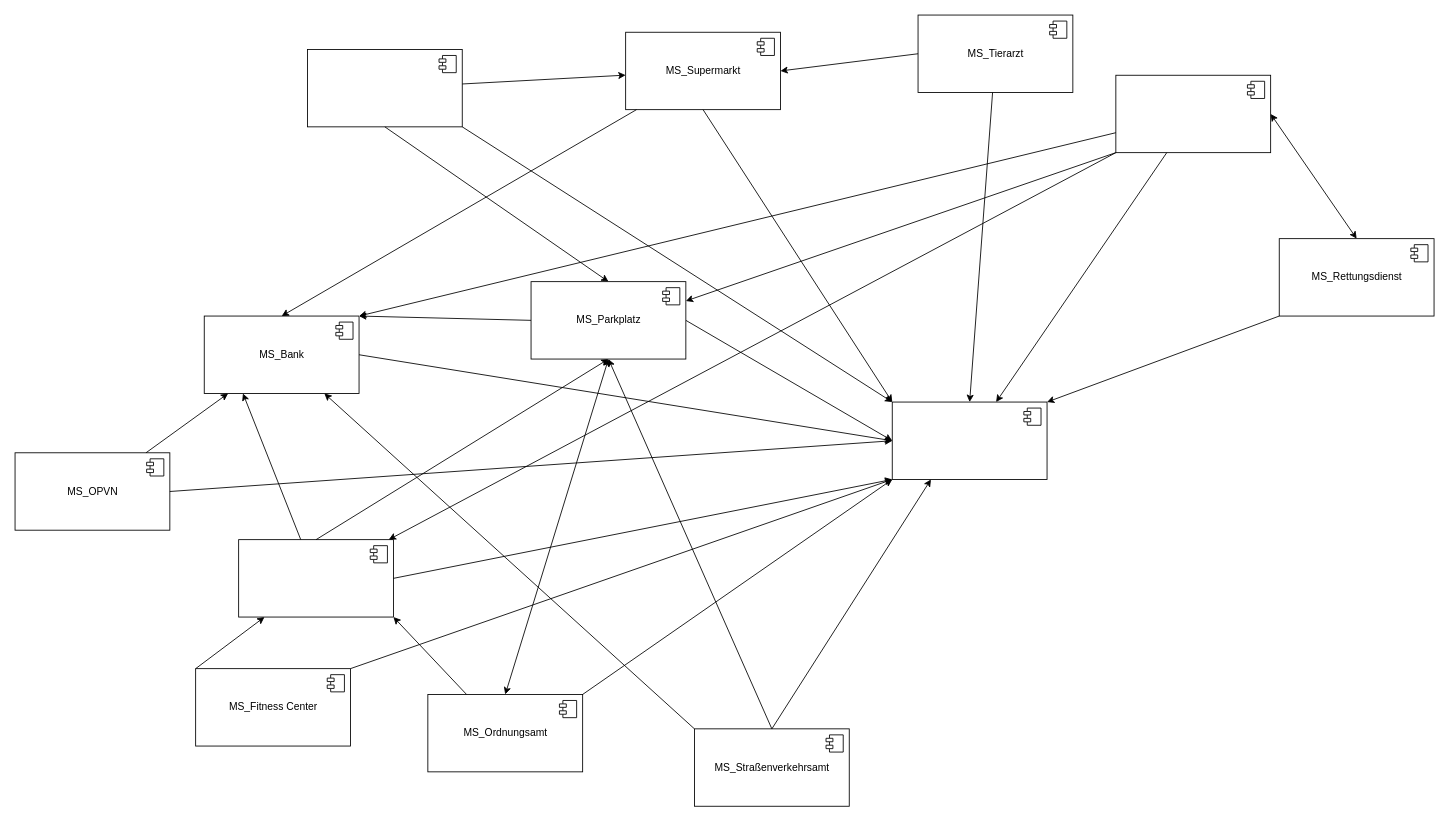
The diagram is 1449 pixels wide and 821 high, and some of its shapes have lost their labels. Here are the shapes that lost their labels. From the top down, the centre of each, then its label:
point (384, 88): MS_Restaurant
point (1193, 113): MS_Krankenhaus
point (969, 440): MS_Bürgerbüro
point (315, 578): MS_Hausarzt
